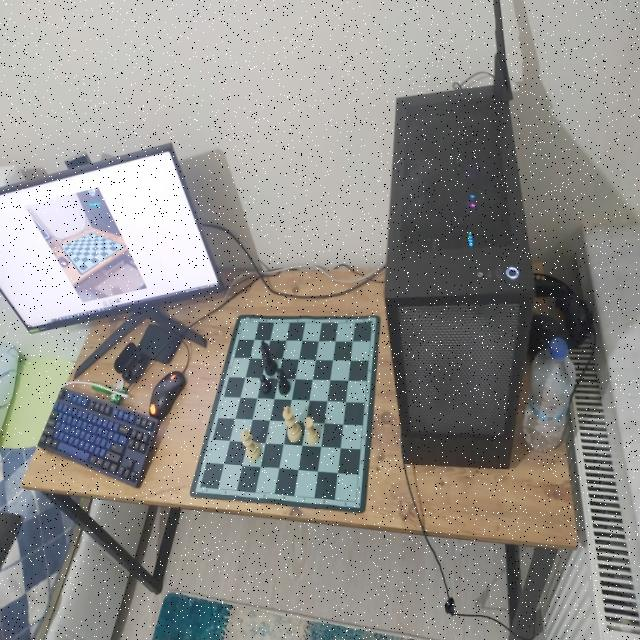corner: (196, 481, 206, 493), (352, 495, 361, 507), (239, 317, 249, 327), (368, 318, 376, 328)
